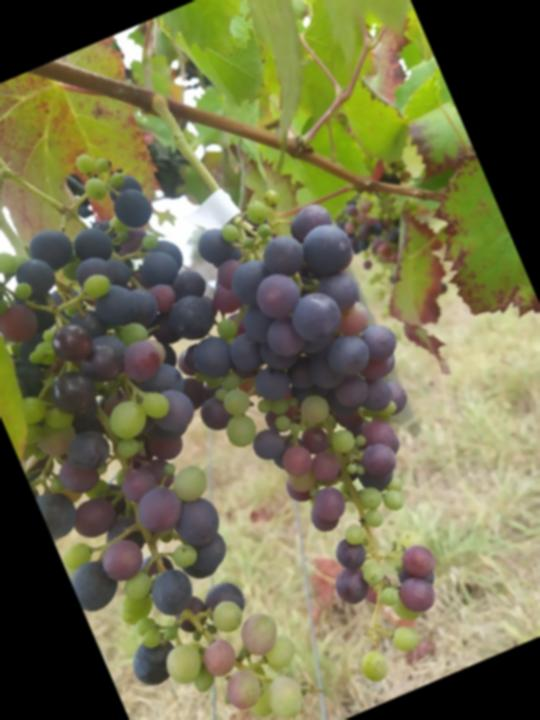grape: (0, 124, 380, 720), (126, 164, 522, 710)
